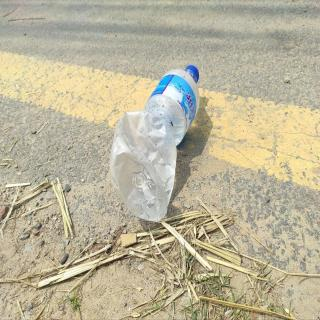Plastic-bottle: (107, 61, 204, 225)
